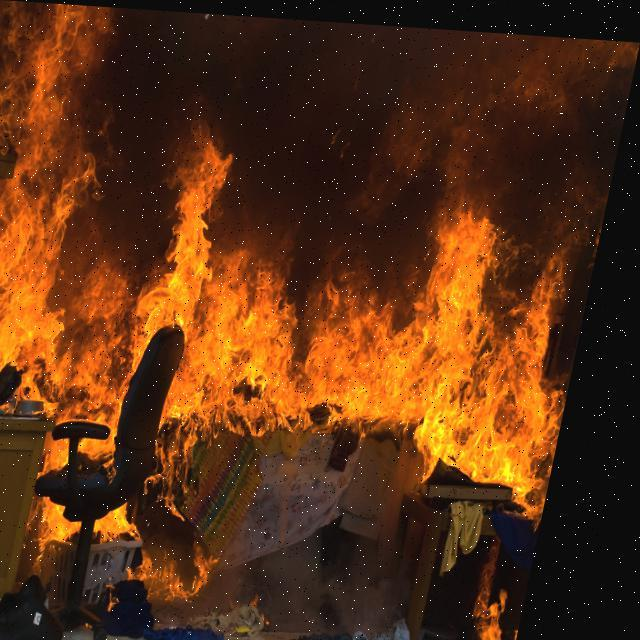Fire: (0, 25, 636, 639)
